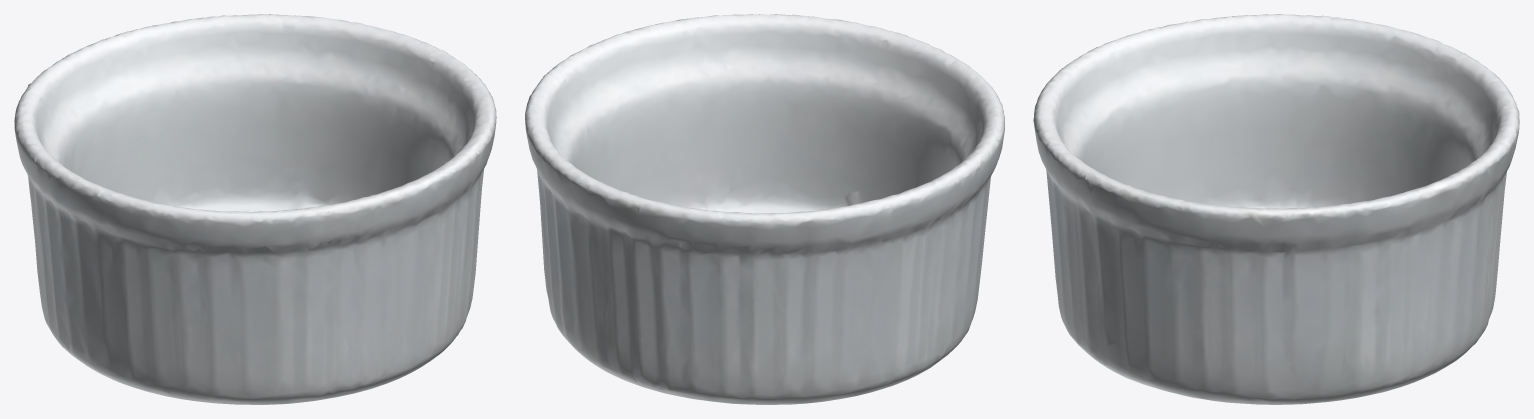
Rendered from BIA_Porcelain_Ramekin_With_Glazed_Rim_35_45_oz_cup.glb.
3 renders of one model, left to right at view 1: azimuth 30°, elevation 25°; view 2: azimuth 150°, elevation 25°; view 3: azimuth 270°, elevation 25°, orthographic.
Visible parts, largest first — view 1: BIA_Porcelain_Ramekin_With_Glazed_Rim_35_45_oz_cup; view 2: BIA_Porcelain_Ramekin_With_Glazed_Rim_35_45_oz_cup; view 3: BIA_Porcelain_Ramekin_With_Glazed_Rim_35_45_oz_cup.
Boxes of the visible parts, box(x1,y1,x2,y2) form: BIA_Porcelain_Ramekin_With_Glazed_Rim_35_45_oz_cup: box(14, 14, 496, 404); BIA_Porcelain_Ramekin_With_Glazed_Rim_35_45_oz_cup: box(525, 14, 1004, 404); BIA_Porcelain_Ramekin_With_Glazed_Rim_35_45_oz_cup: box(1033, 14, 1519, 404).
Bounding box in the file's own units: 0.0887 × 0.0433 × 0.0887.
1 material, 1 textured.
